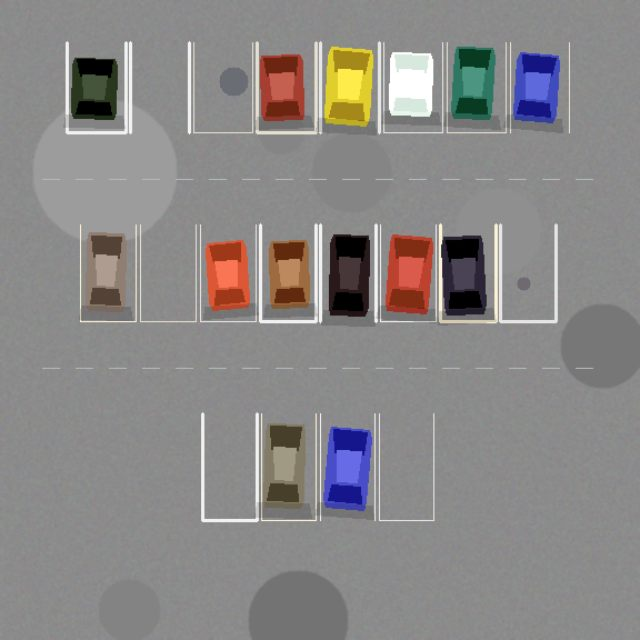space-empty: (202, 413, 257, 520), (379, 413, 433, 520), (140, 224, 196, 321), (500, 224, 556, 321), (130, 42, 189, 132), (193, 42, 252, 132)
space-occupied: (261, 413, 316, 520), (320, 413, 374, 520), (80, 224, 136, 321), (200, 224, 256, 321), (260, 224, 316, 321), (320, 224, 376, 321), (380, 224, 436, 321), (440, 224, 496, 321), (67, 42, 126, 132), (257, 42, 316, 132), (320, 42, 379, 132), (383, 42, 442, 132), (447, 42, 506, 132), (510, 42, 569, 132)
